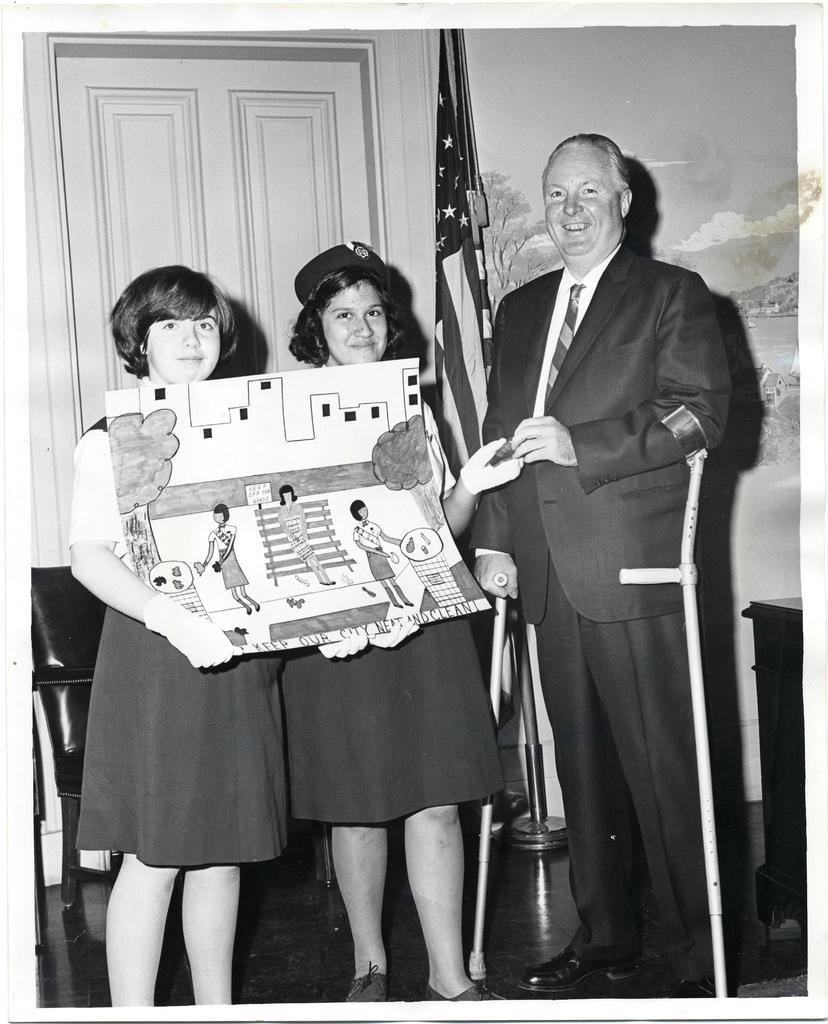crutches: (444, 126, 754, 1024)
